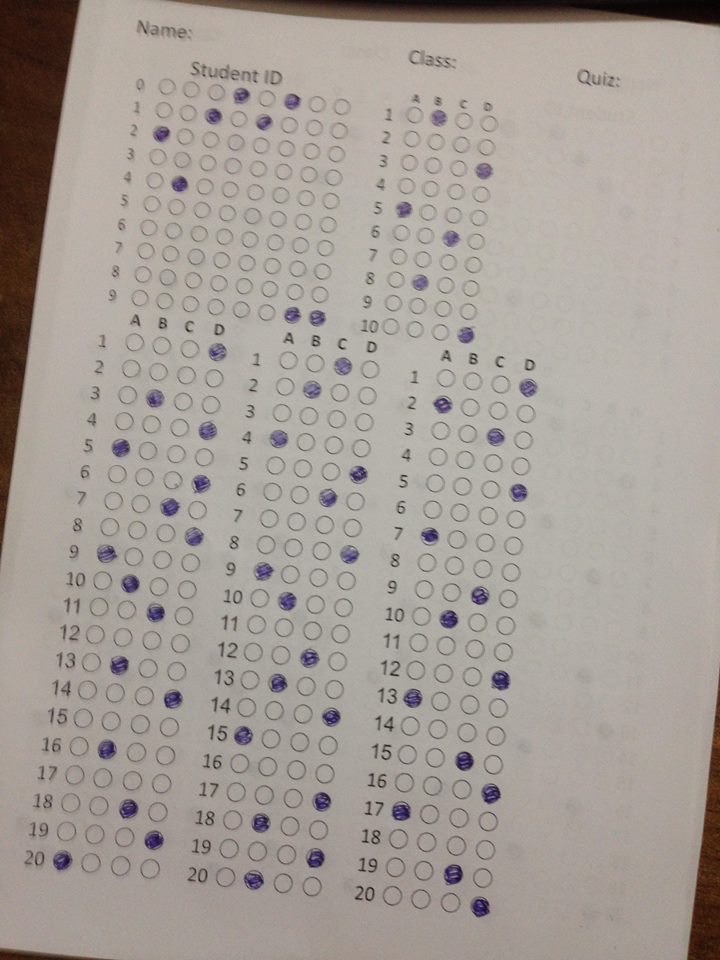not-c: (321, 677, 347, 703), (74, 678, 98, 702), (70, 705, 94, 729), (66, 733, 90, 757), (62, 762, 86, 786), (58, 791, 82, 815), (54, 819, 78, 843), (81, 823, 105, 847), (86, 794, 110, 818), (90, 766, 114, 790), (78, 850, 102, 874), (98, 709, 122, 733), (102, 681, 126, 705), (130, 683, 154, 707), (128, 710, 152, 734), (123, 740, 147, 764), (120, 768, 144, 792), (111, 824, 135, 848), (108, 854, 132, 878), (138, 857, 162, 881), (145, 800, 169, 824), (148, 771, 172, 795), (152, 744, 176, 768), (156, 714, 180, 738), (164, 659, 188, 683), (135, 656, 159, 680), (139, 629, 163, 653), (167, 631, 191, 655), (170, 603, 194, 627), (114, 597, 138, 621), (111, 624, 135, 648), (316, 732, 339, 756), (288, 730, 311, 754), (259, 727, 282, 751), (228, 751, 251, 775), (255, 754, 278, 778), (285, 757, 308, 781), (312, 761, 335, 785), (281, 785, 304, 809), (252, 783, 275, 807), (224, 780, 247, 804), (221, 808, 244, 832), (217, 836, 240, 860), (213, 865, 236, 889), (245, 838, 268, 862), (274, 842, 297, 866), (278, 814, 301, 838), (306, 818, 329, 842), (300, 874, 323, 898), (270, 871, 293, 895), (473, 837, 496, 861), (471, 865, 494, 889), (439, 890, 462, 914), (410, 886, 433, 910), (381, 883, 404, 907), (383, 855, 406, 879), (386, 827, 409, 851), (391, 769, 414, 793), (395, 743, 418, 767), (397, 713, 420, 737), (403, 658, 426, 682), (407, 630, 430, 654), (410, 604, 433, 628), (412, 576, 435, 600), (415, 551, 438, 575), (420, 497, 443, 521), (423, 472, 446, 496), (427, 444, 450, 468), (429, 418, 452, 442), (455, 422, 478, 446), (454, 447, 477, 471), (452, 473, 475, 497), (447, 500, 470, 524), (445, 527, 468, 551), (442, 553, 465, 577), (439, 580, 462, 604), (465, 609, 488, 633), (463, 637, 486, 661), (461, 665, 484, 689), (458, 693, 481, 717), (455, 720, 478, 744), (433, 634, 456, 658), (432, 660, 455, 684), (428, 688, 451, 712), (426, 717, 449, 741), (423, 745, 446, 769), (421, 773, 444, 797), (449, 777, 472, 801), (446, 806, 469, 830), (444, 834, 467, 858), (414, 830, 437, 854), (418, 802, 441, 826), (411, 858, 434, 882), (150, 334, 173, 356), (177, 336, 200, 358), (123, 331, 146, 353), (119, 357, 142, 379), (115, 384, 138, 406), (112, 410, 135, 432), (106, 463, 129, 485), (101, 489, 124, 511), (98, 515, 121, 537), (128, 493, 151, 515), (132, 466, 155, 488), (135, 439, 158, 461), (139, 413, 162, 435), (146, 361, 169, 383), (174, 364, 197, 386), (171, 389, 194, 411), (168, 416, 191, 438), (164, 443, 187, 465), (161, 468, 184, 490), (153, 522, 176, 544), (125, 519, 148, 541), (185, 499, 208, 521), (192, 446, 215, 468), (199, 394, 222, 416), (202, 367, 225, 389), (150, 548, 173, 570), (122, 545, 145, 567), (178, 551, 201, 573), (175, 579, 198, 601), (147, 575, 170, 597), (90, 569, 113, 591), (87, 595, 110, 617), (83, 622, 106, 644), (79, 650, 102, 672), (276, 348, 299, 370), (273, 376, 296, 398), (270, 402, 293, 424), (263, 454, 286, 476), (260, 480, 283, 502), (257, 507, 280, 529), (253, 533, 276, 555), (281, 536, 304, 558), (309, 539, 332, 561), (312, 514, 335, 536), (285, 511, 308, 533), (287, 484, 310, 506), (290, 457, 313, 479), (293, 431, 316, 453), (296, 405, 319, 427), (303, 351, 326, 373), (358, 358, 381, 380), (356, 385, 379, 407), (352, 410, 375, 432), (349, 436, 372, 458), (322, 433, 345, 455), (324, 408, 347, 430), (328, 382, 351, 404), (318, 460, 341, 482), (343, 490, 366, 512), (340, 516, 363, 538), (306, 566, 329, 588), (333, 569, 356, 591), (278, 563, 301, 585), (247, 586, 270, 608), (244, 613, 267, 635), (271, 616, 294, 638), (300, 620, 323, 642), (303, 594, 326, 616), (330, 596, 353, 618), (328, 622, 351, 644), (325, 650, 348, 672), (269, 643, 292, 665), (241, 640, 264, 662), (238, 668, 261, 690), (234, 695, 257, 717), (262, 699, 285, 721), (291, 703, 314, 725), (294, 674, 317, 696), (434, 367, 457, 389), (461, 371, 484, 393), (488, 373, 511, 395), (485, 399, 508, 421), (458, 396, 481, 418), (514, 402, 537, 424), (511, 428, 534, 450), (508, 455, 531, 477), (503, 508, 526, 530), (500, 535, 523, 557), (499, 561, 522, 583), (496, 588, 519, 610), (493, 615, 516, 637), (491, 640, 514, 662), (486, 696, 509, 718), (483, 724, 506, 746), (481, 753, 504, 775), (476, 809, 499, 831), (481, 451, 504, 473), (479, 478, 502, 500), (477, 504, 500, 526), (473, 531, 496, 553), (470, 557, 493, 579), (143, 170, 164, 190), (141, 193, 162, 213), (138, 217, 159, 237), (135, 240, 156, 260), (132, 264, 153, 284), (128, 287, 149, 307), (153, 290, 174, 310), (157, 266, 178, 286), (159, 244, 180, 264), (162, 220, 183, 240), (165, 197, 186, 217), (170, 149, 191, 169), (174, 126, 195, 146), (176, 103, 197, 123), (180, 79, 201, 99), (204, 82, 225, 102), (227, 108, 248, 128), (199, 128, 220, 148), (224, 132, 245, 152), (250, 135, 271, 155), (275, 137, 296, 157), (301, 140, 322, 160), (324, 144, 345, 164), (327, 120, 348, 140), (331, 96, 352, 116), (306, 93, 327, 113), (256, 88, 277, 108), (278, 114, 299, 134), (303, 117, 324, 137), (322, 166, 343, 186), (319, 190, 340, 210), (318, 214, 339, 234), (314, 238, 335, 258), (311, 261, 332, 281), (309, 284, 330, 304), (284, 282, 305, 302), (286, 259, 307, 279), (289, 235, 310, 255), (291, 212, 312, 232), (294, 188, 315, 208), (297, 164, 318, 184), (273, 161, 294, 181), (247, 158, 268, 178), (221, 155, 242, 175), (196, 152, 217, 172), (194, 176, 215, 196), (191, 199, 212, 219), (188, 223, 209, 243), (185, 245, 206, 265), (183, 269, 204, 289), (180, 293, 201, 313), (204, 297, 225, 317), (207, 272, 228, 292), (210, 250, 231, 270), (213, 226, 234, 246), (216, 203, 237, 223), (219, 179, 240, 199), (244, 182, 265, 202), (269, 184, 290, 204), (267, 209, 288, 229), (241, 206, 262, 226), (238, 229, 259, 249), (235, 252, 256, 272), (233, 275, 254, 295), (230, 299, 251, 319), (255, 302, 276, 322), (258, 278, 279, 298), (260, 256, 281, 276), (264, 232, 285, 252), (403, 104, 424, 124), (401, 128, 422, 148), (399, 151, 420, 171), (395, 174, 416, 194), (390, 221, 411, 241), (387, 246, 408, 266), (386, 268, 407, 288), (382, 292, 403, 312), (380, 315, 401, 335), (404, 318, 425, 338), (406, 295, 427, 315), (411, 248, 432, 268), (414, 225, 435, 245), (416, 202, 437, 222), (420, 179, 441, 199), (422, 155, 443, 175), (425, 132, 446, 152), (452, 110, 473, 130), (451, 134, 472, 154), (448, 158, 469, 178), (446, 181, 467, 201), (443, 205, 464, 225), (467, 208, 488, 228), (470, 184, 491, 204), (476, 137, 497, 157), (478, 114, 499, 134), (465, 231, 486, 251), (462, 254, 483, 274), (460, 277, 481, 297), (457, 301, 478, 321), (429, 322, 450, 342), (431, 298, 452, 318), (434, 274, 455, 294), (436, 252, 457, 272), (156, 77, 177, 96), (153, 100, 174, 119), (146, 147, 167, 166)
taken-c: (467, 893, 492, 920), (440, 862, 465, 889), (388, 797, 413, 824), (477, 781, 502, 806), (453, 749, 478, 774), (399, 686, 424, 711), (487, 667, 512, 692), (436, 607, 461, 632), (467, 583, 492, 608), (416, 523, 441, 548), (505, 480, 530, 505), (483, 424, 508, 449), (429, 392, 454, 417), (515, 374, 540, 399), (205, 338, 230, 363), (141, 385, 166, 410), (195, 418, 220, 443), (106, 434, 131, 459), (187, 470, 212, 495), (156, 494, 181, 519), (180, 524, 205, 549), (92, 541, 117, 566), (116, 571, 141, 596), (141, 599, 166, 624), (105, 651, 130, 676), (160, 685, 185, 710), (93, 736, 118, 761), (115, 795, 140, 820), (140, 827, 165, 852), (48, 847, 73, 872), (265, 671, 288, 694), (318, 705, 341, 728), (231, 724, 254, 747), (309, 789, 332, 812), (249, 810, 272, 833), (302, 846, 325, 869), (241, 867, 264, 890), (330, 355, 354, 377), (299, 379, 323, 401), (265, 427, 289, 449), (345, 463, 369, 485), (315, 486, 339, 508), (337, 543, 361, 565), (250, 560, 274, 582), (274, 589, 298, 611), (297, 646, 321, 668), (230, 85, 251, 106), (280, 90, 301, 111), (252, 110, 273, 131), (201, 105, 222, 126), (149, 123, 170, 144), (167, 172, 188, 193), (281, 304, 302, 325), (306, 308, 327, 329), (454, 324, 475, 345), (408, 271, 429, 292), (439, 227, 460, 248), (391, 198, 412, 219), (472, 160, 493, 181), (426, 107, 447, 128)
